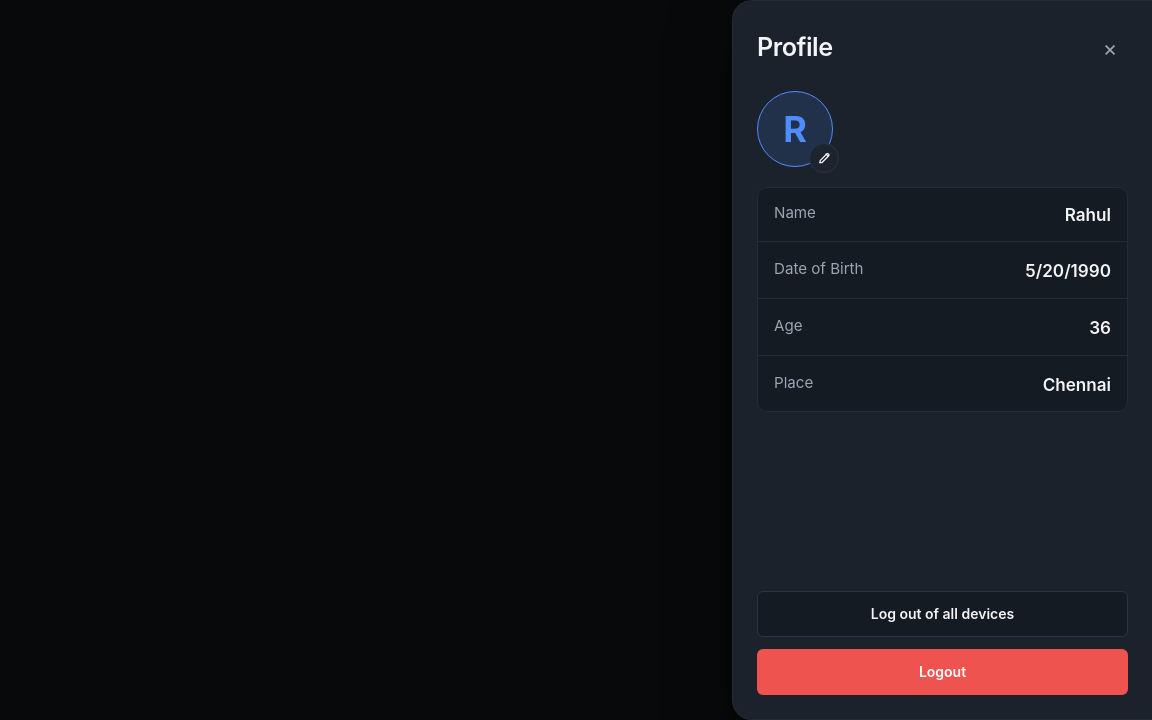
Test: ProfileDialog › editing the profile › requires the current password before sending a new one
The width and height of the screenshot is (1152, 720).
Click the button named "Edit profile" at {"x": 824, "y": 158}, box [809, 143, 839, 173]
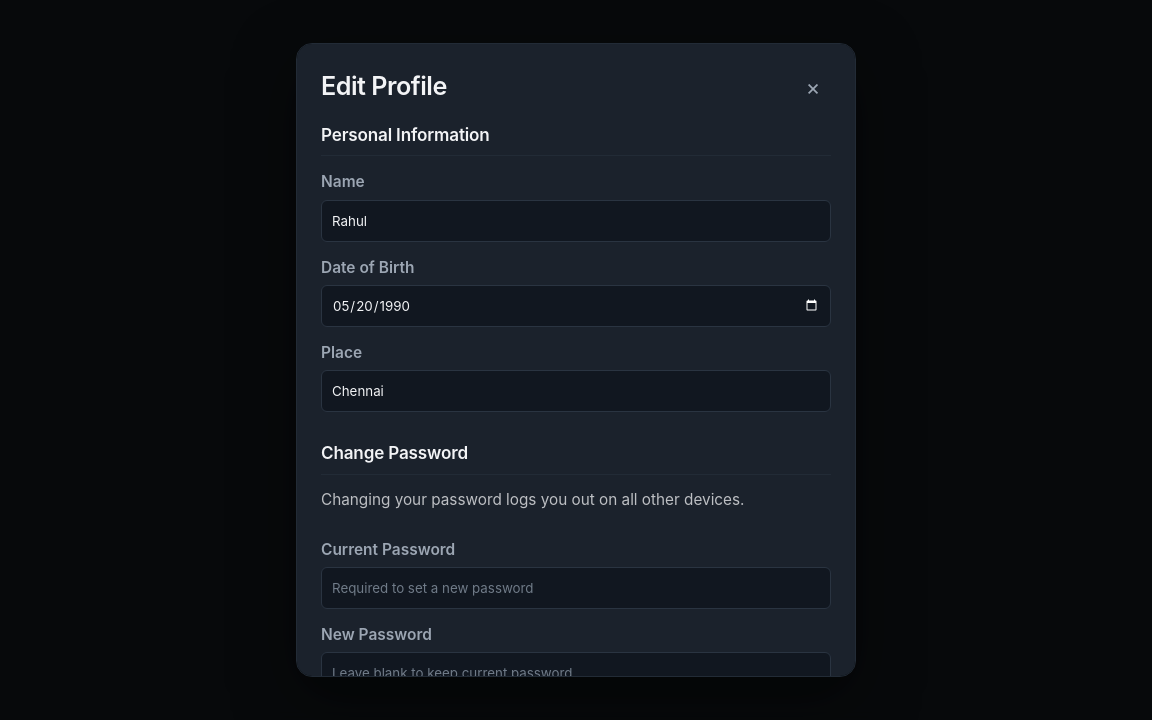
Type "n3w-pass" into the password field labelled "New Password" at {"x": 576, "y": 673}, box [321, 652, 831, 694]
(page scrolled)
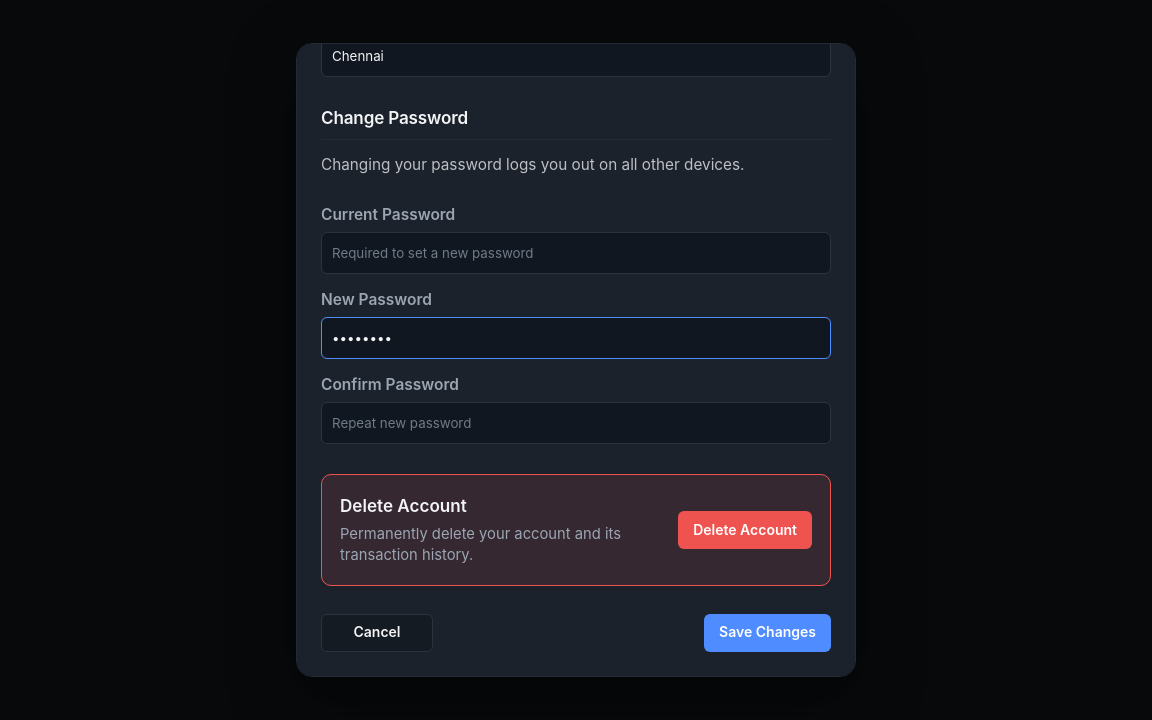
Type "n3w-pass" into the password field labelled "Confirm Password" at {"x": 576, "y": 424}, box [321, 402, 831, 444]
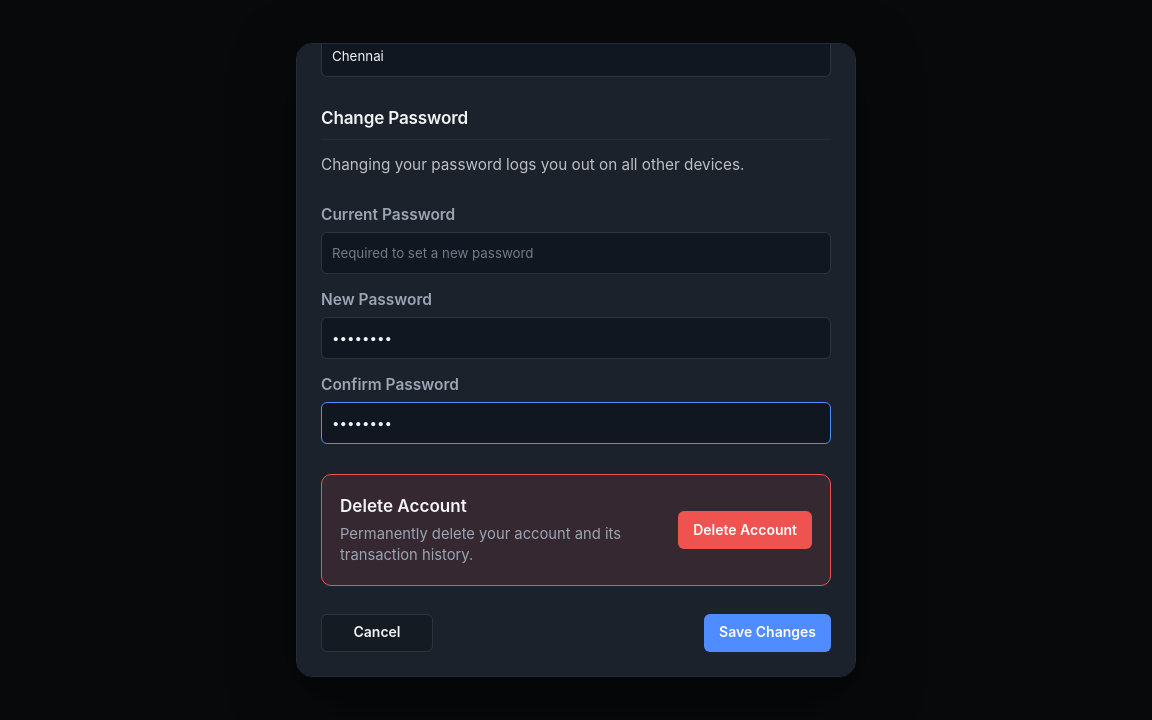
Click the button "Save Changes" at {"x": 768, "y": 633}, box [704, 614, 831, 652]
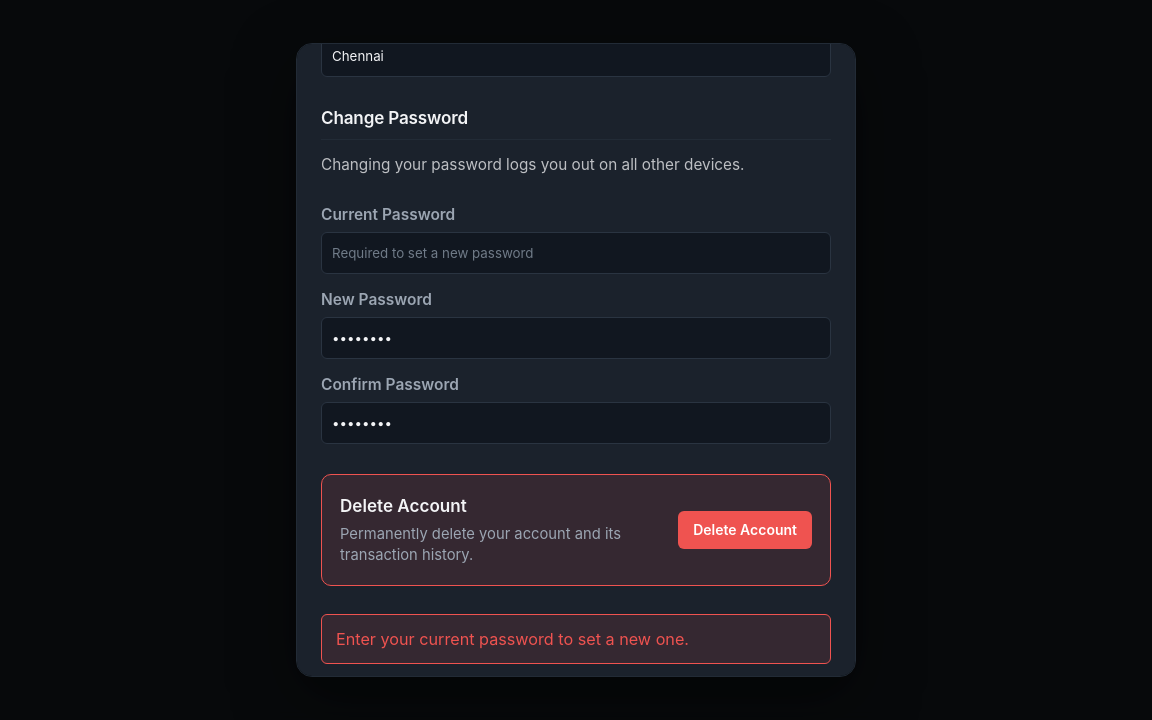
Now the message reads "Enter your current password to set a new one.", box [336, 629, 689, 649]
